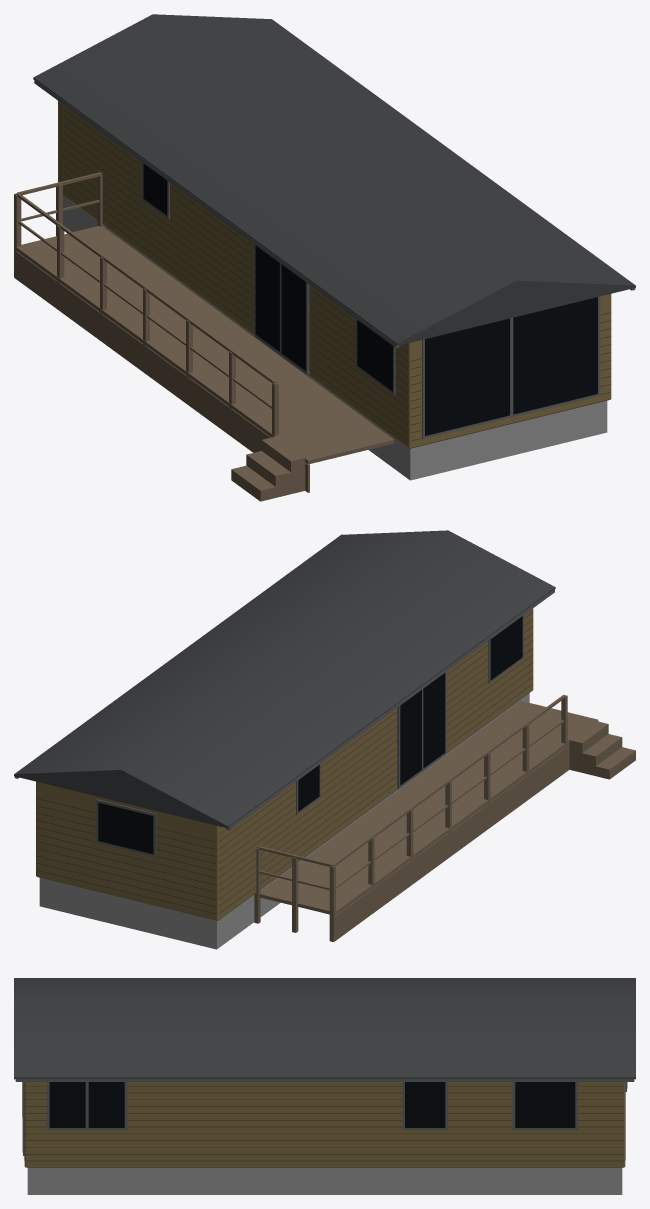
The model's file is vehicle.towed.static_caravan_c.glb.
3 renders of one model, top to bottom at view 1: azimuth 30°, elevation 25°; view 2: azimuth 150°, elevation 25°; view 3: azimuth 270°, elevation 25°, orthographic. The views are drawn at different scales.
Visible parts, largest first — view 1: main__concrete_444, main__timber_765, main__timber_764, main__glass_dark, main__paint_999, main__enamel_566, main__timber_543; view 2: main__concrete_444, main__timber_764, main__timber_765, main__glass_dark, main__paint_999, main__timber_543, main__enamel_566; view 3: main__concrete_444, main__timber_764, main__paint_999, main__glass_dark, main__timber_543, main__enamel_566.
Boxes of the visible parts, box(x1,y1,x2,y2) form: main__concrete_444: box(33, 14, 635, 345); main__timber_765: box(14, 172, 394, 501); main__timber_764: box(58, 101, 611, 448); main__glass_dark: box(143, 163, 597, 435); main__paint_999: box(63, 196, 607, 480); main__enamel_566: box(34, 79, 635, 439); main__timber_543: box(58, 105, 610, 441); main__concrete_444: box(14, 530, 555, 828); main__timber_764: box(36, 608, 533, 920); main__timber_765: box(254, 695, 635, 941); main__glass_dark: box(98, 616, 522, 854); main__paint_999: box(39, 693, 529, 949); main__timber_543: box(36, 612, 533, 914); main__enamel_566: box(14, 589, 554, 856); main__concrete_444: box(14, 978, 635, 1079); main__timber_764: box(24, 1082, 625, 1167); main__paint_999: box(27, 1167, 622, 1194); main__glass_dark: box(22, 1082, 627, 1152); main__timber_543: box(24, 1082, 625, 1161); main__enamel_566: box(15, 1078, 634, 1155).
Size of the model in its own units: 6.94 by 3.42 by 12.42.
